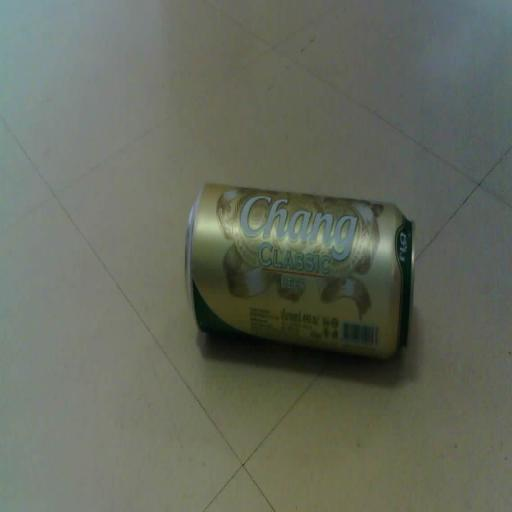canned: (174, 157, 430, 383)
